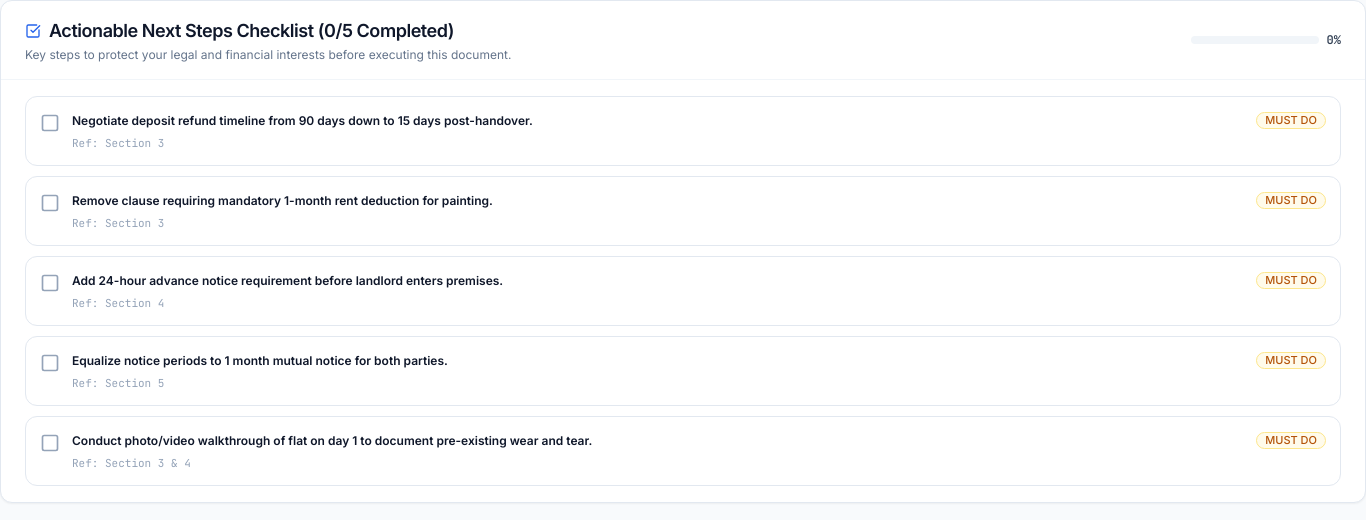
Scenario: Summary & Legal Guidance Components › renders actionable checklist and toggles completion status
Check: the heading "Actionable Next Steps Checklist (0/5 Completed)" is shown, box x1=25 y1=17 x2=512 y2=45
Check: the text "Negotiate deposit refund timeline from 90 days down to 15 days post-handover." is shown, box x1=72 y1=111 x2=533 y2=130
Note: Find and click the toggle button
Click the 1st button named "mark complete" at (50, 123), box x1=40 y1=113 x2=60 y2=133
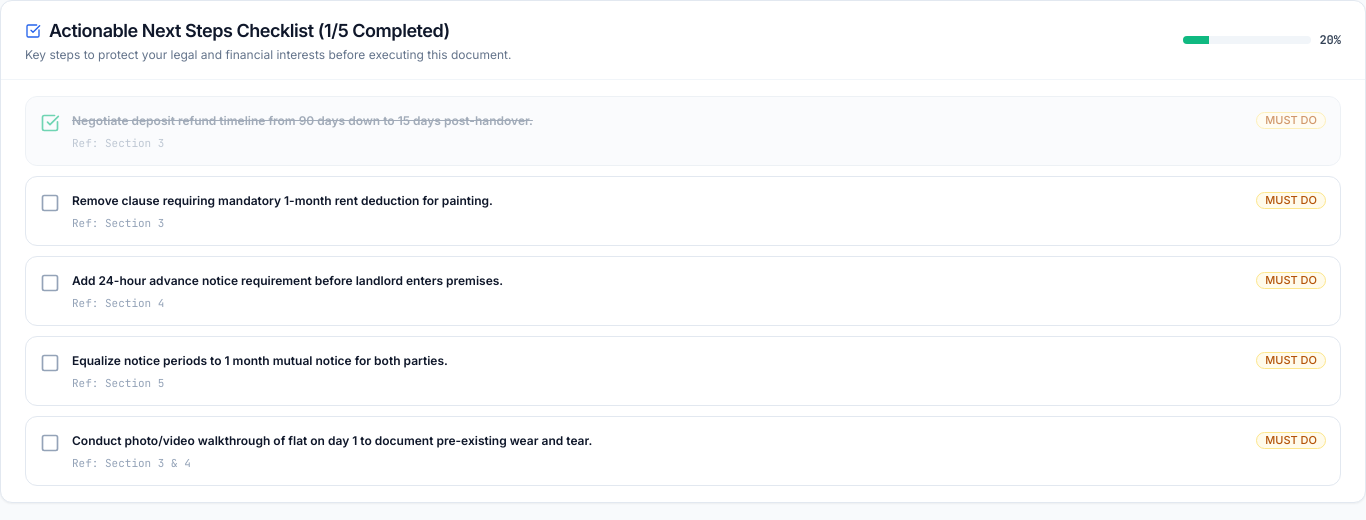
Check: the heading "Actionable Next Steps Checklist (1/5 Completed)" is shown, box x1=25 y1=17 x2=512 y2=45
